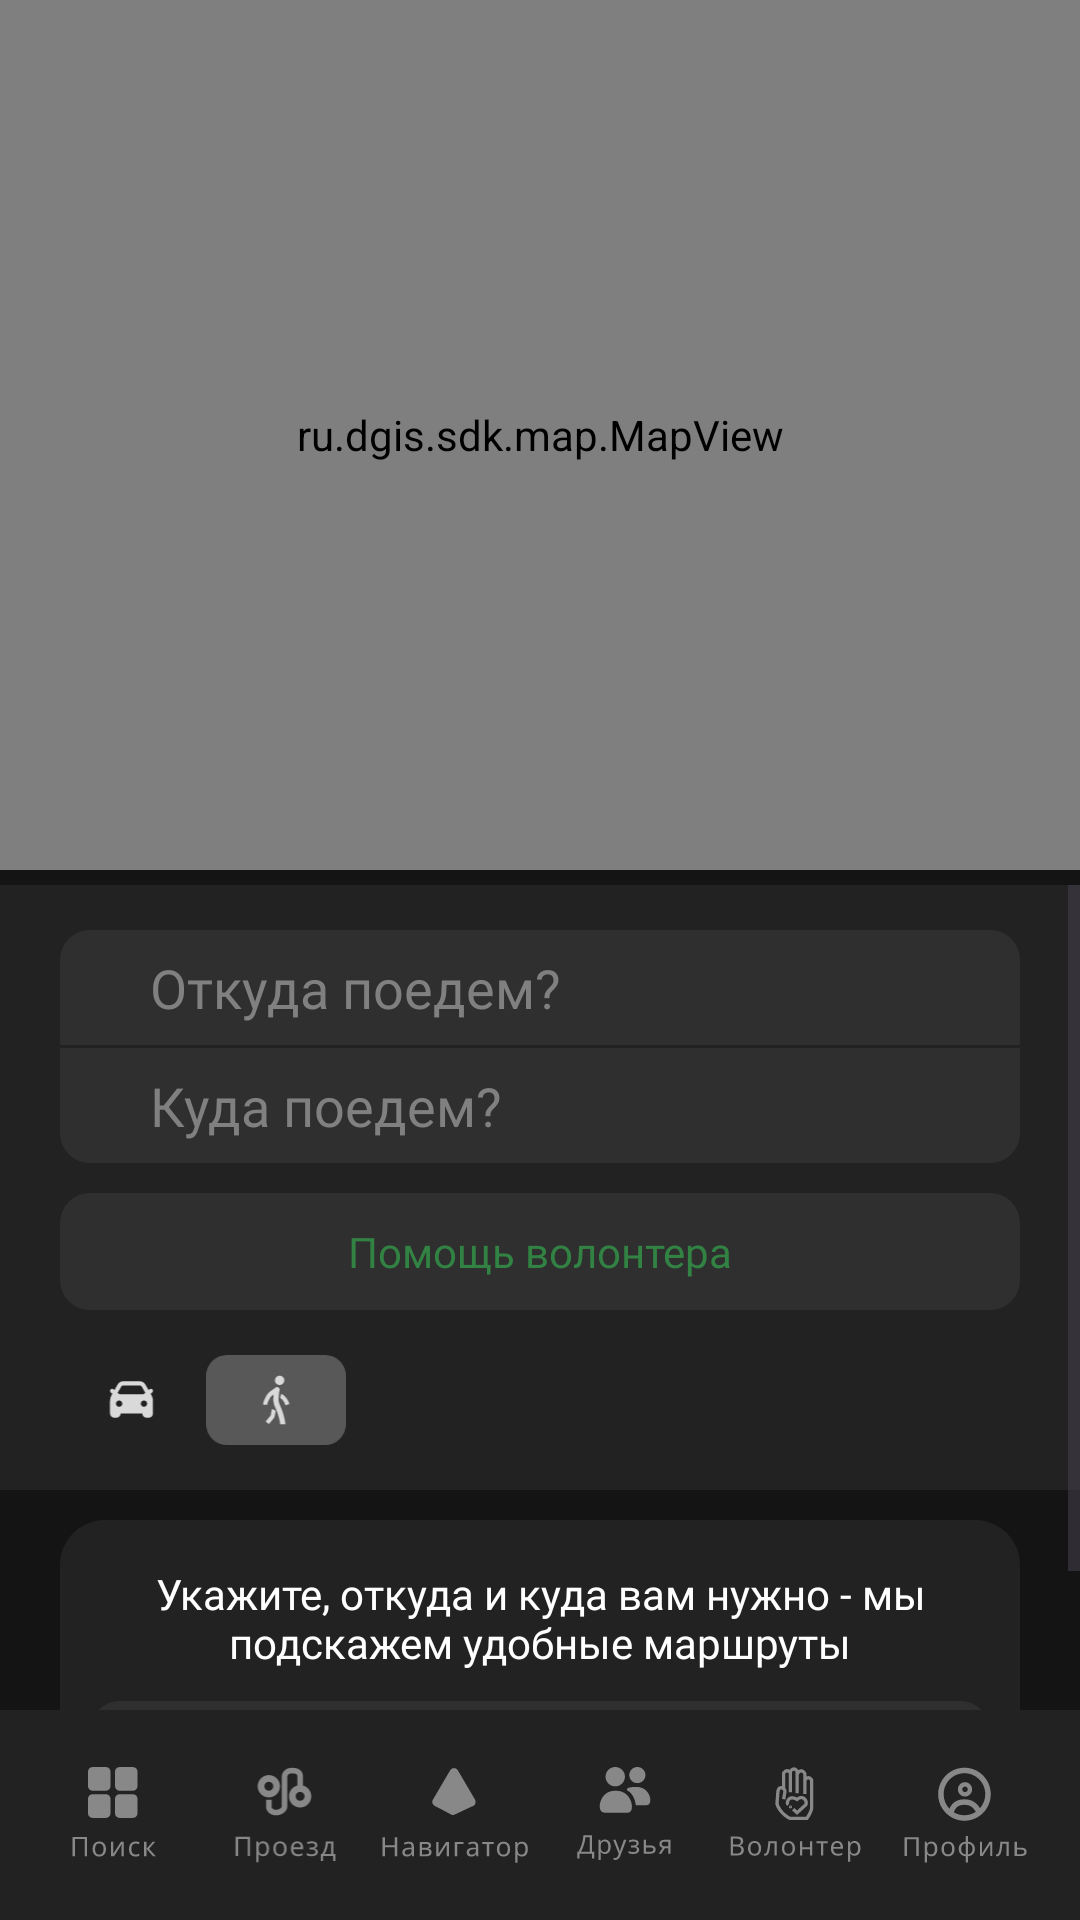

Point at icon controls on the screen. Image size 1080x1920, points as (x,y).
auto no: (131,1399)
pedestrian: (276,1400)
